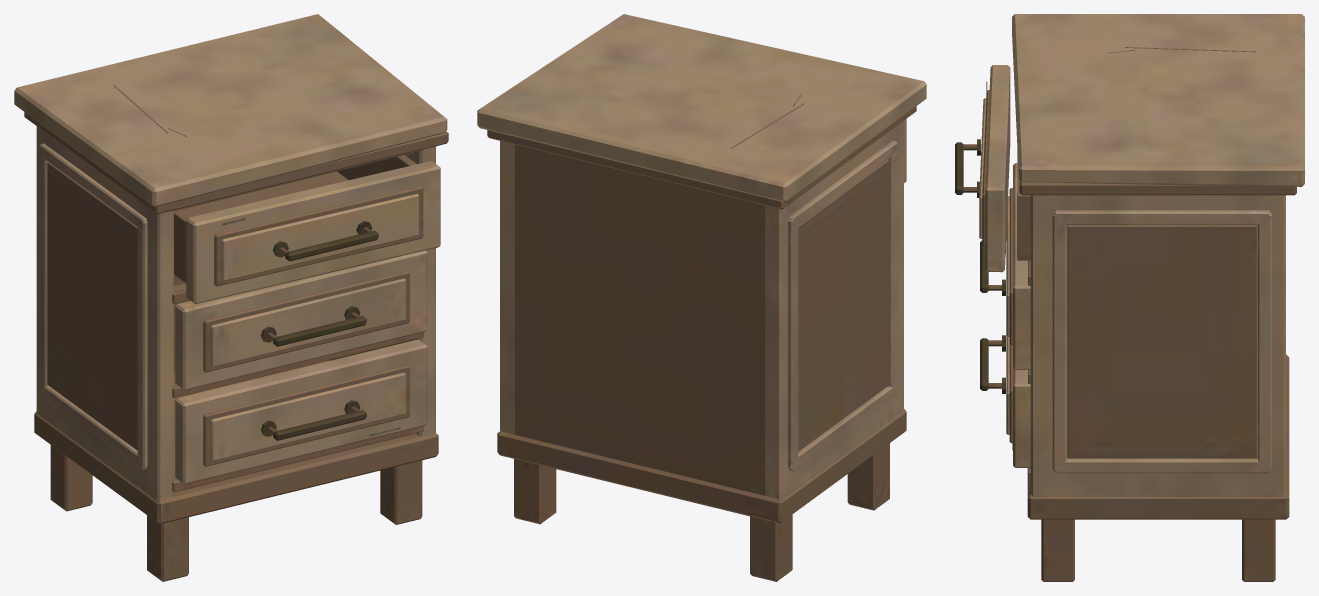
Rendered from HE05_bedside_cabinet.glb.
The picture shows the model from 3 angles, left to right: view 1: azimuth 30°, elevation 25°; view 2: azimuth 150°, elevation 25°; view 3: azimuth 270°, elevation 25°; orthographic projection. The views are drawn at different scales.
Parts seen in each view (by area): view 1: Short square foot; view 2: Short square foot; view 3: Short square foot.
Part boxes in pixels (x1,y1,x2,y2): Short square foot: [14, 14, 448, 581]; Short square foot: [477, 14, 926, 581]; Short square foot: [955, 14, 1304, 581].
Bounding box in the file's own units: 0.4698 × 0.6 × 0.4463.
Materials: 4 (4 with a texture image).
